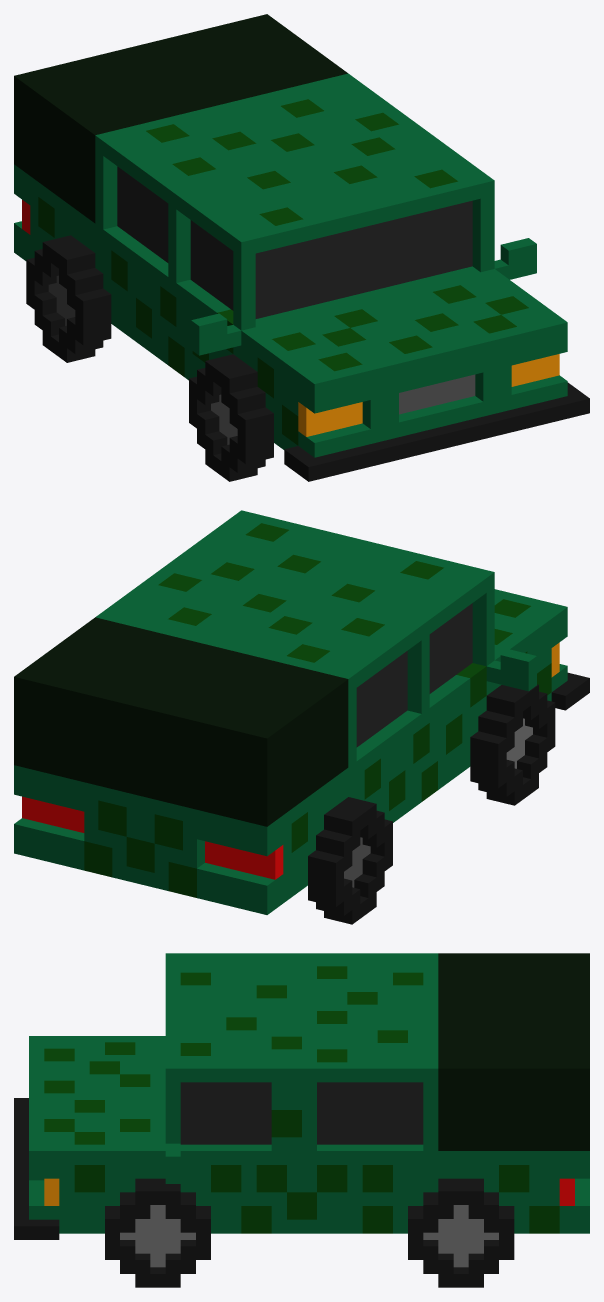
The model's file is greencarassets.vox.obj.
3 views of the same model, one above another, from view 1: azimuth 30°, elevation 25°; view 2: azimuth 150°, elevation 25°; view 3: azimuth 270°, elevation 25° (orthographic). The views are drawn at different scales.
Bounding box in the file's own units: 2.4 × 1.5 × 3.8.
1 material, 1 textured.
